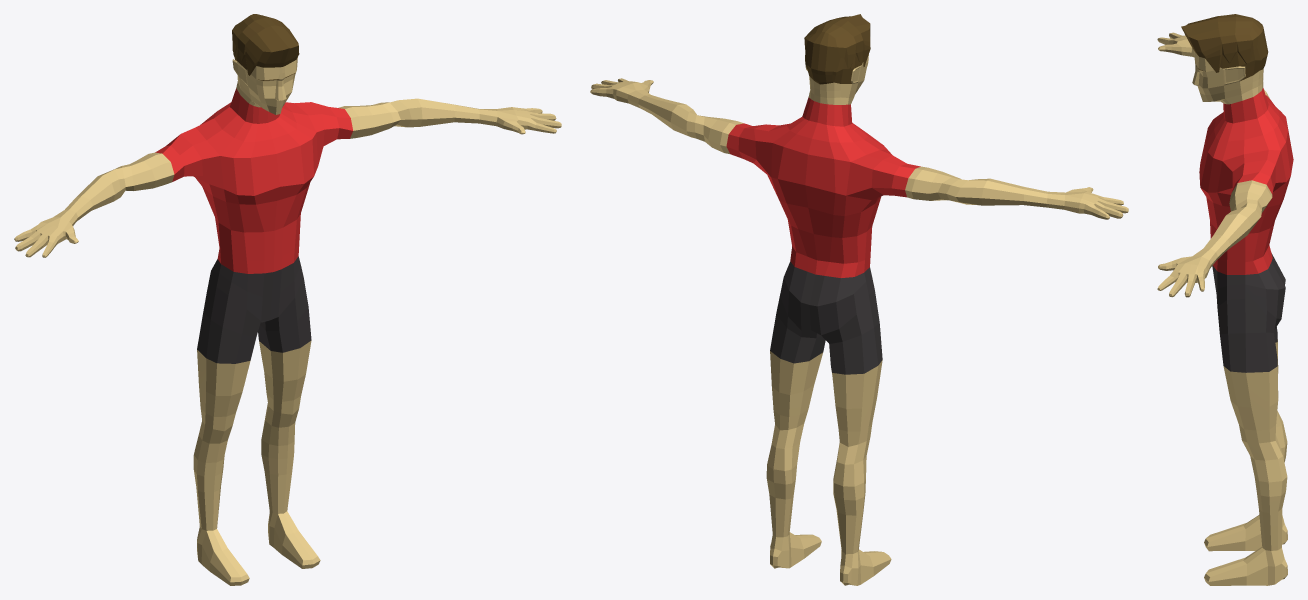
File: Mojmodel.fbx
3 views of the same model, side by side, from view 1: azimuth 30°, elevation 25°; view 2: azimuth 150°, elevation 25°; view 3: azimuth 270°, elevation 25° (orthographic).
Parts seen in each view (by area): view 1: CharacterModel.002, CharacterModel.003, CharacterModel.001; view 2: CharacterModel.002, CharacterModel.003, CharacterModel.001; view 3: CharacterModel.002, CharacterModel.003, CharacterModel.001.
Part boxes in pixels (bbox=[...]): CharacterModel.002: bbox=[14, 57, 561, 585]; CharacterModel.003: bbox=[197, 256, 311, 363]; CharacterModel.001: bbox=[232, 14, 299, 80]; CharacterModel.002: bbox=[590, 54, 1128, 585]; CharacterModel.003: bbox=[770, 261, 882, 374]; CharacterModel.001: bbox=[804, 14, 870, 84]; CharacterModel.002: bbox=[1157, 32, 1293, 585]; CharacterModel.003: bbox=[1212, 253, 1285, 372]; CharacterModel.001: bbox=[1181, 14, 1268, 80].
Bounding box in the file's own units: 702 × 681 × 154.
